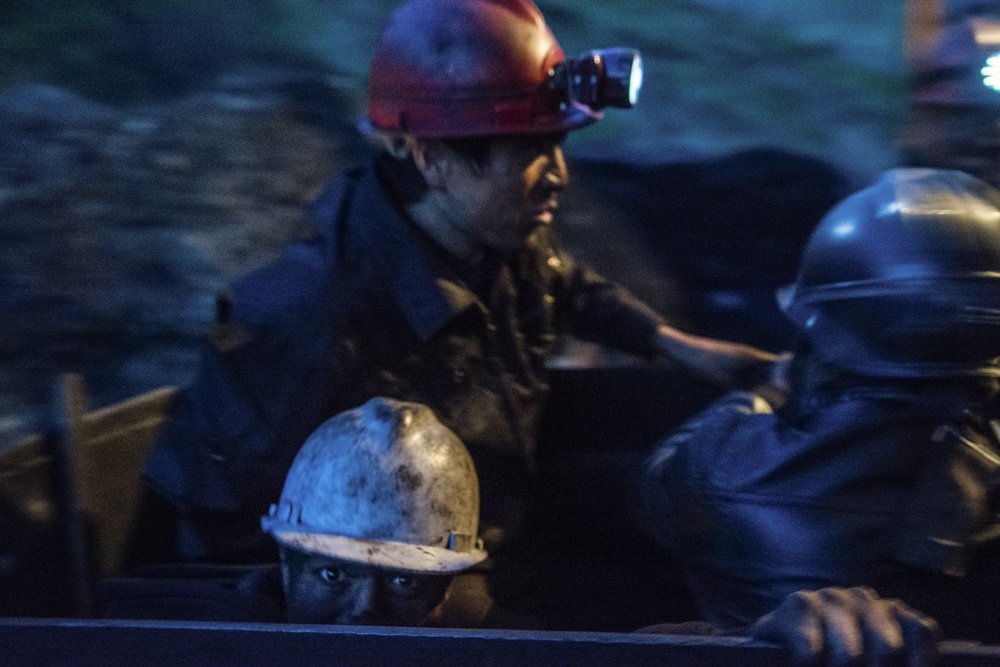red: (357, 6, 587, 249), (778, 166, 999, 404)
white: (261, 399, 486, 621)
